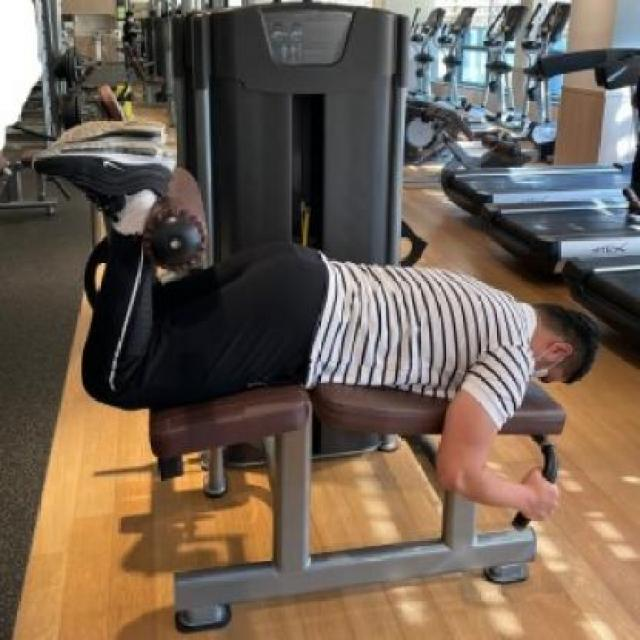reg curl machine: (26, 3, 599, 631)
